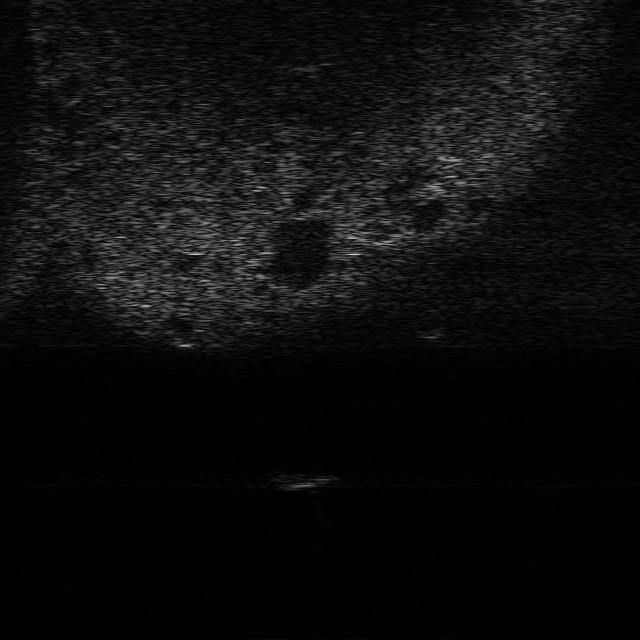ball: (408, 311, 448, 338)
cube: (266, 471, 336, 492)
